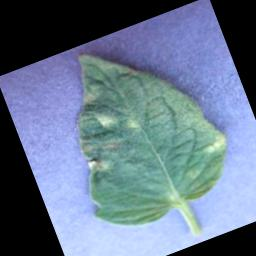Leaf_Mold: (199, 125, 232, 156), (93, 104, 120, 132), (84, 150, 112, 177)
